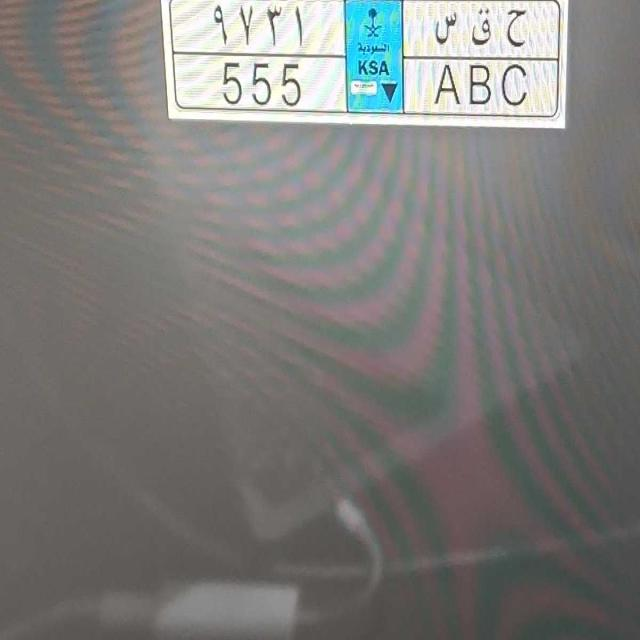license_plate: (186, 55, 545, 122)
